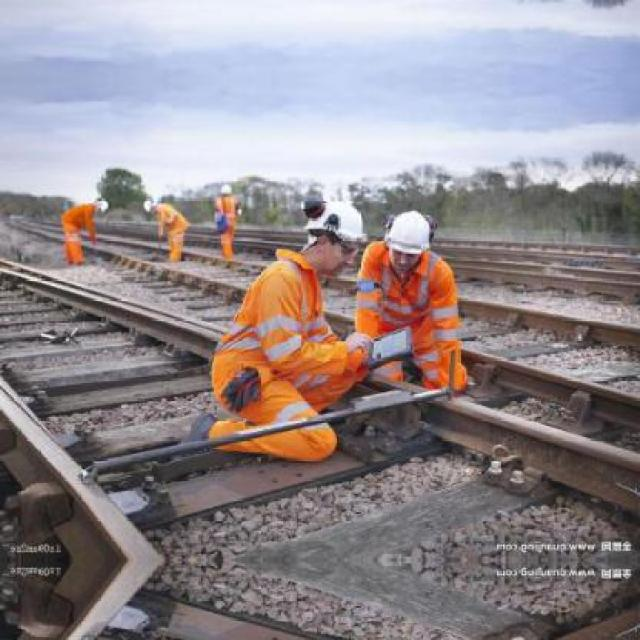Reflective-Jacket: (203, 245, 346, 452), (348, 245, 468, 380)
Safety-Helmet: (297, 195, 372, 252), (377, 203, 440, 259), (216, 180, 238, 200), (95, 196, 112, 212), (138, 199, 156, 213)
